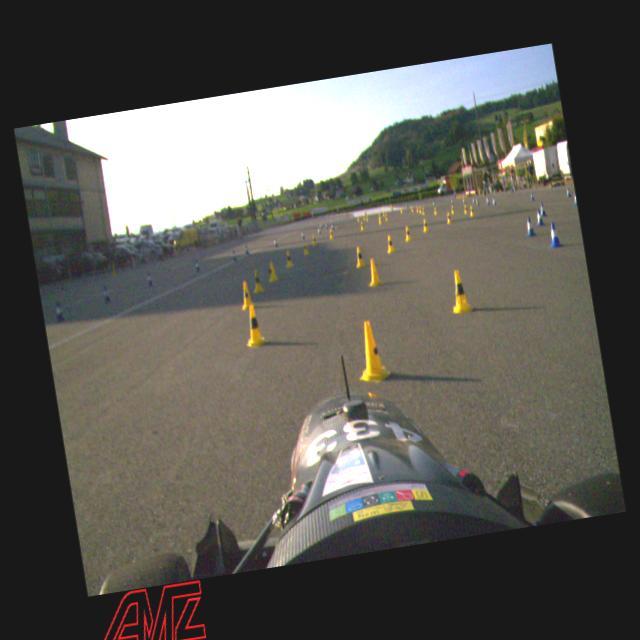blue_cone: (546, 221, 562, 249), (54, 300, 66, 324), (524, 216, 536, 237), (534, 208, 546, 227), (540, 202, 548, 218), (146, 272, 153, 286), (194, 260, 201, 272), (104, 289, 110, 301), (572, 192, 577, 205), (566, 188, 572, 198), (530, 192, 535, 202), (301, 230, 306, 238), (492, 197, 496, 206), (273, 240, 278, 247), (232, 252, 236, 260), (245, 246, 249, 254), (486, 198, 490, 205), (318, 228, 321, 234), (326, 223, 328, 230), (320, 224, 322, 229), (320, 223, 322, 228)
yellow_cone: (350, 318, 392, 386), (448, 269, 474, 315), (242, 304, 266, 348), (238, 280, 256, 310), (365, 258, 383, 286), (251, 270, 265, 294), (354, 246, 366, 269), (267, 261, 279, 283), (385, 234, 396, 254), (284, 251, 293, 268), (403, 225, 412, 242), (302, 242, 309, 256), (422, 219, 429, 233), (469, 205, 475, 218), (446, 212, 452, 224), (360, 221, 366, 231), (312, 236, 317, 246), (329, 230, 334, 240), (450, 206, 456, 214), (434, 206, 438, 215), (378, 217, 382, 225), (385, 214, 389, 222), (464, 206, 468, 214), (357, 216, 360, 222)
